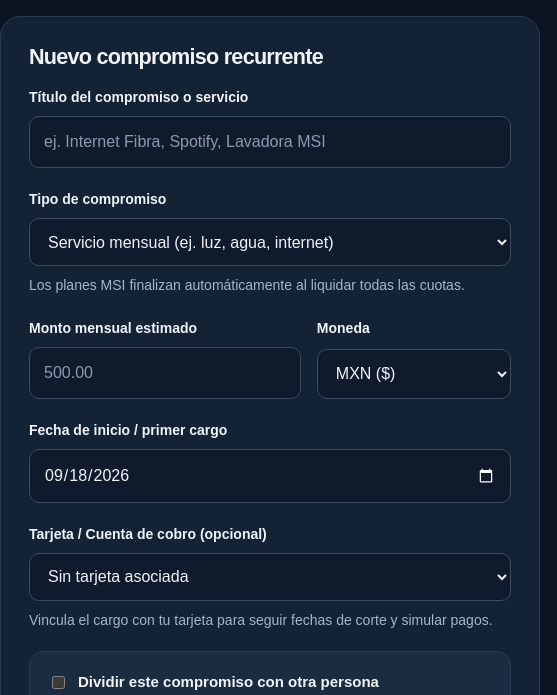
Test: RecurringForm › switches to MSI and displays installment calculation preview
Step 1. Select "Meses Sin Intereses (compra a plazos fijos)" in the dropdown labelled "Tipo de compromiso" → (270, 242), box [29,218,511,266]
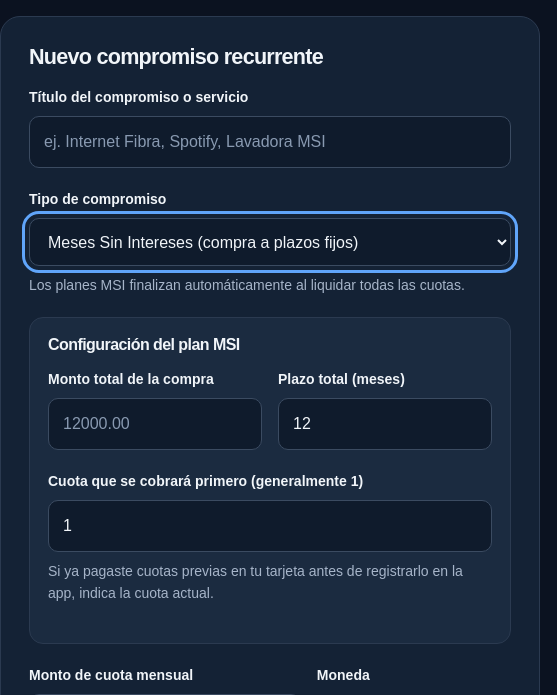
Now the number field labelled "Monto total de la compra" is shown
Now the number field labelled "Plazo total (meses)" is shown, box [278,398,492,450]
Step 2. Type "18000" into the number field labelled "Monto total de la compra" → (155, 424), box [48,398,262,450]
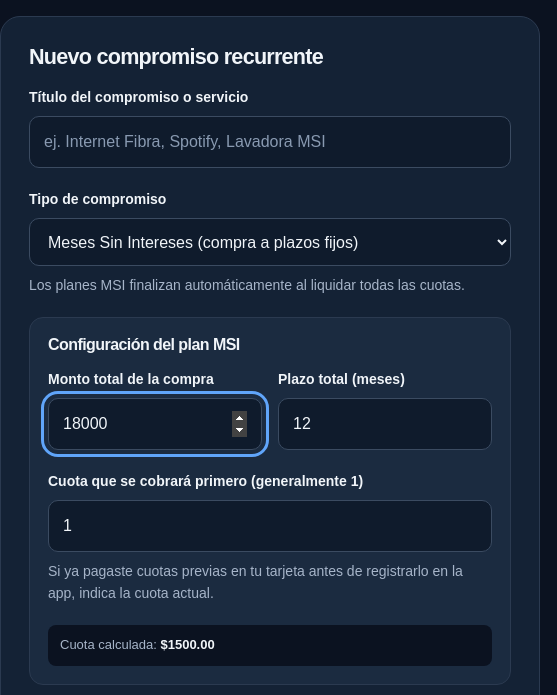
Now the text "Cuota calculada:" is shown, box [60,637,160,652]
Now the text "$1500.00" is shown, box [160,637,215,652]
